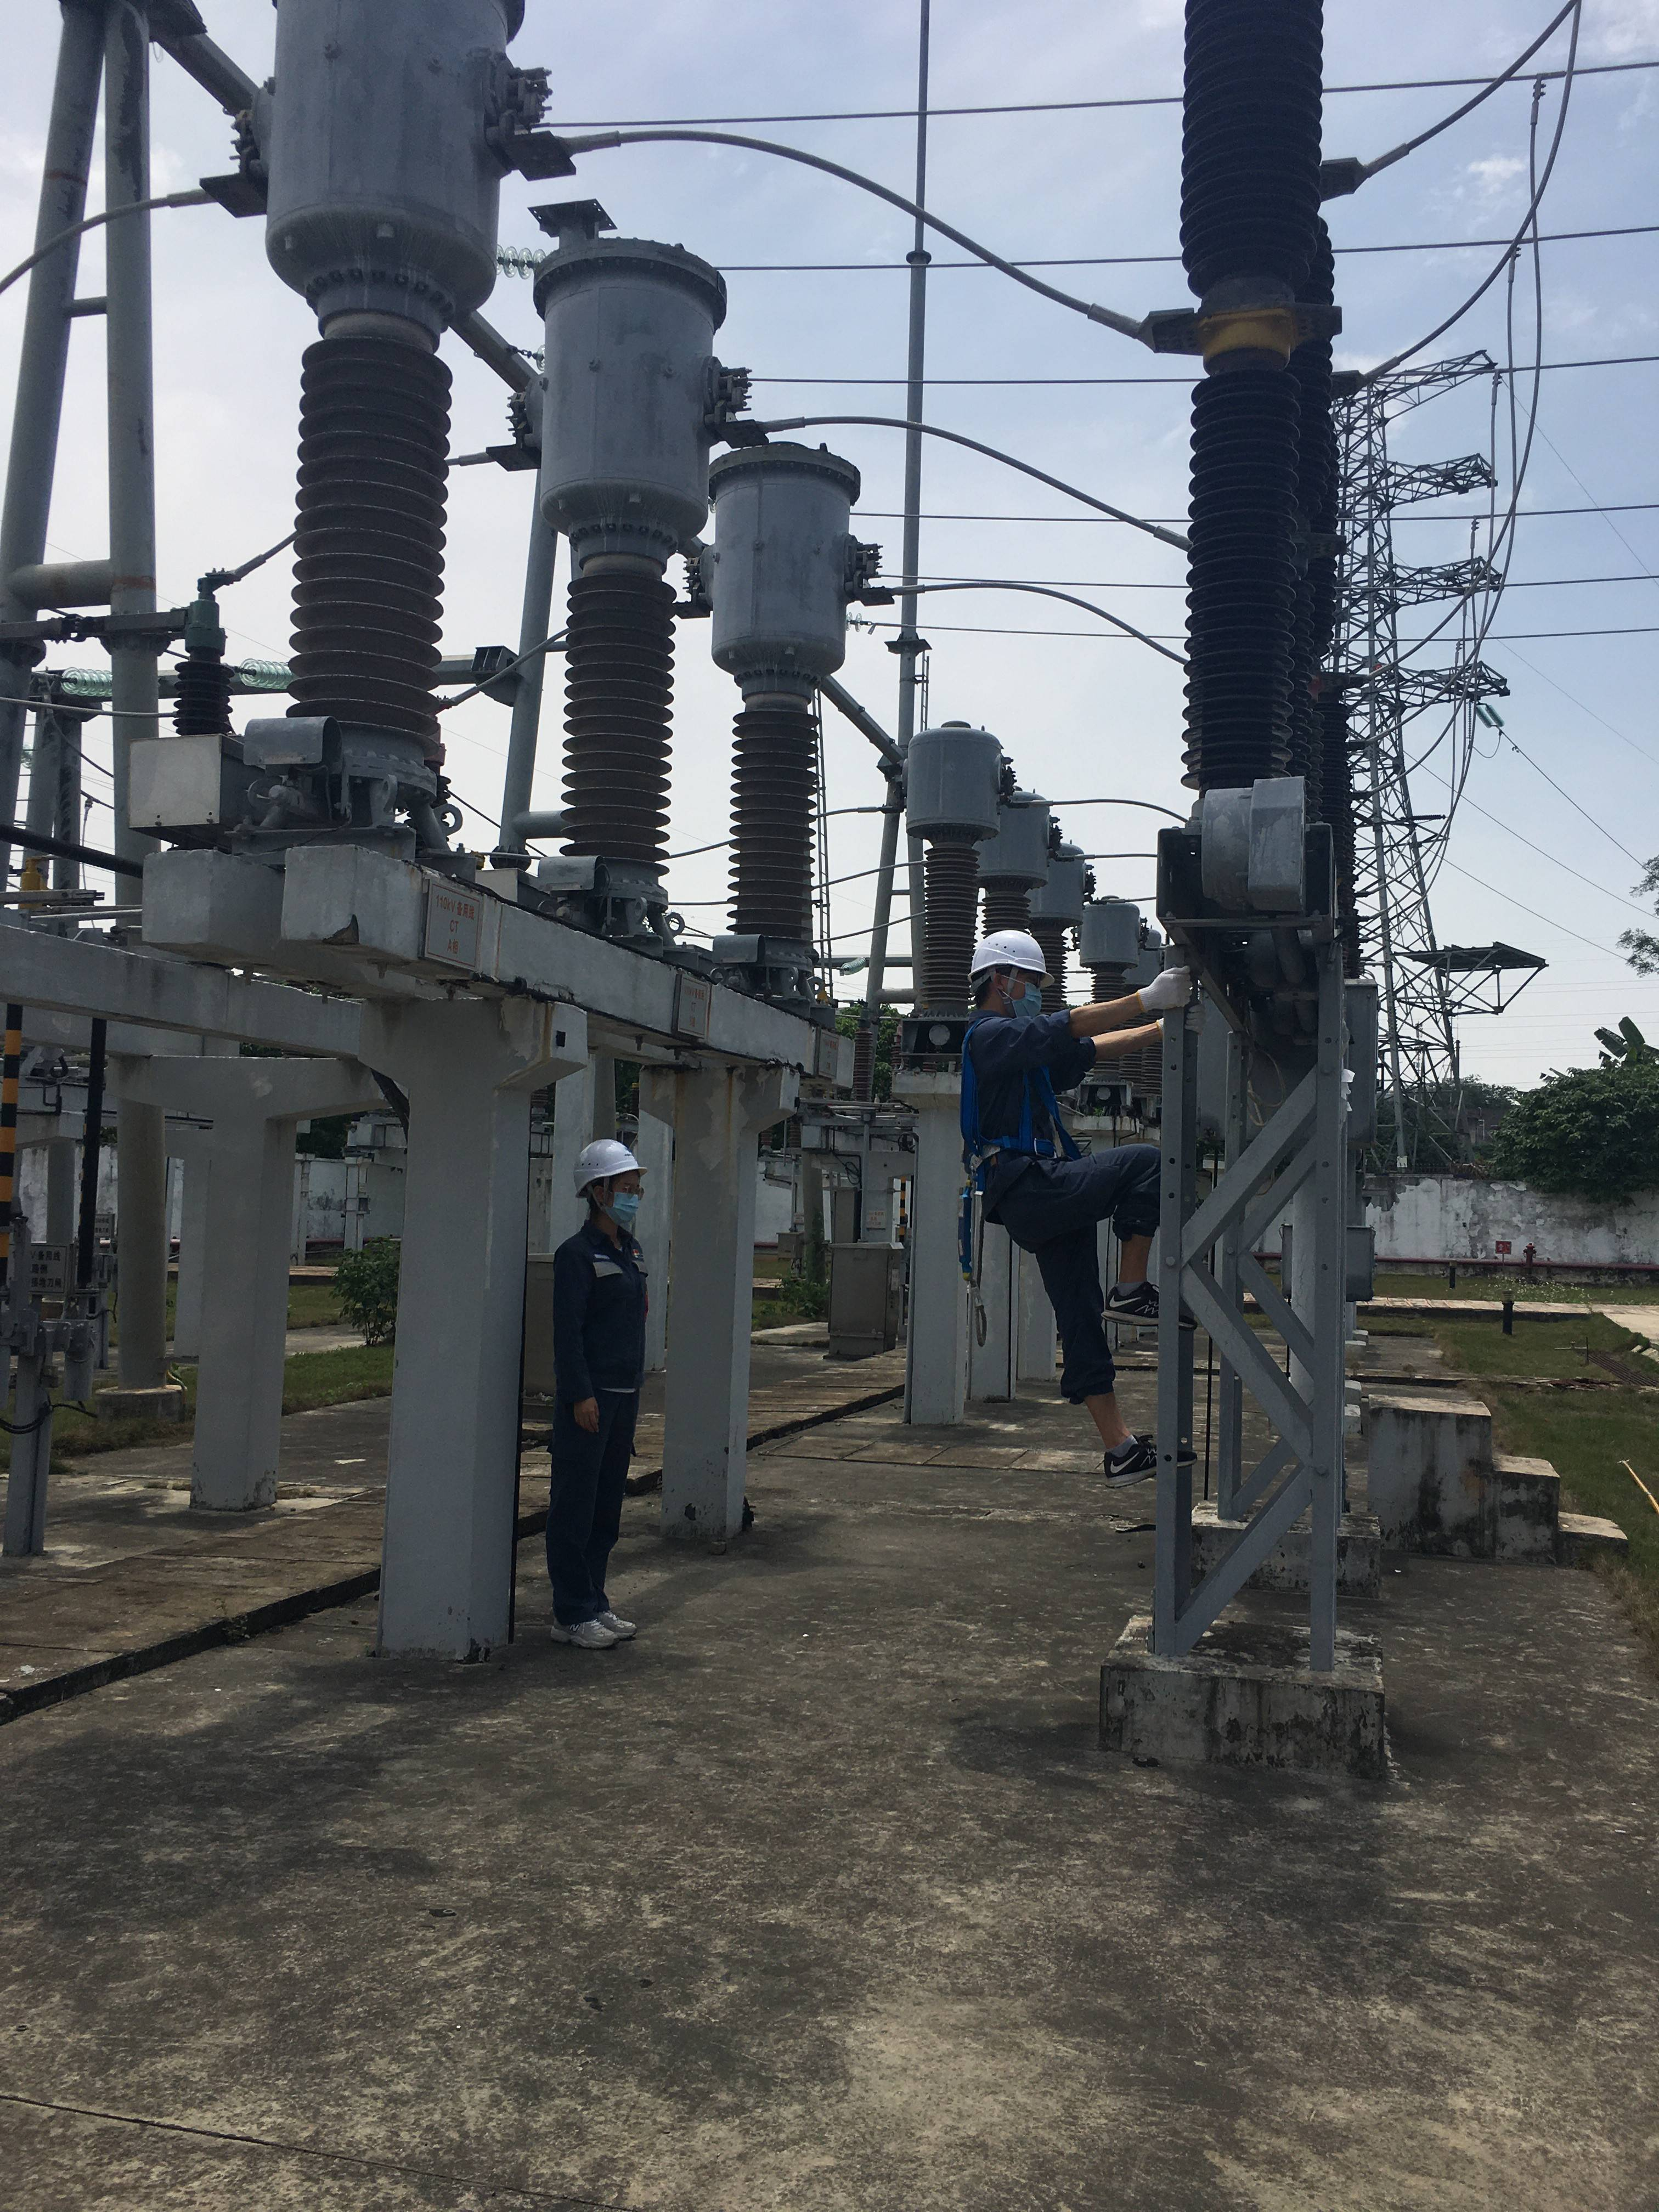downsuit: (992, 1160, 1169, 1402), (542, 1409, 641, 1618)
upsuit: (958, 1007, 1089, 1162), (551, 1226, 653, 1397)
wrongbottom: (1063, 1355, 1133, 1456), (1107, 1197, 1166, 1298)
wrongtop: (1053, 984, 1168, 1064)
